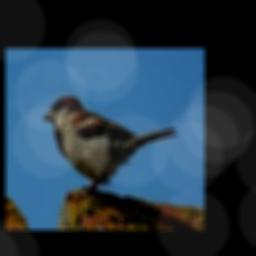Sparrow: (44, 96, 177, 203)
